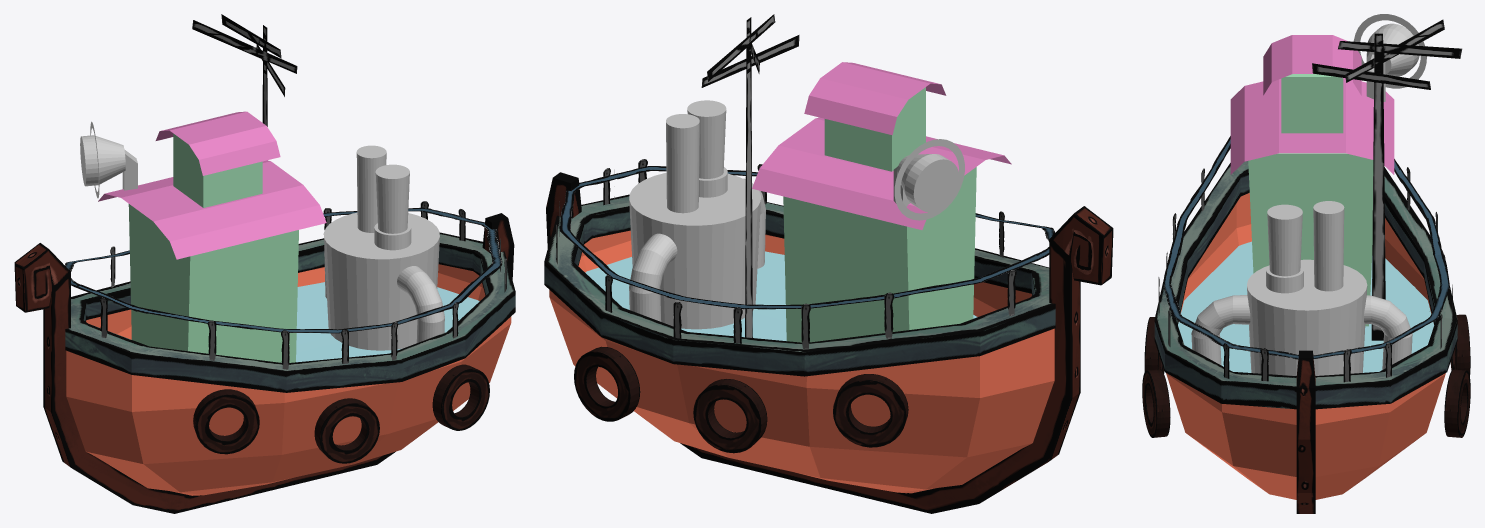
Rendered from BoatModelV1_Test3.fbx.
3 views of the same model, side by side, from view 1: azimuth 30°, elevation 25°; view 2: azimuth 150°, elevation 25°; view 3: azimuth 270°, elevation 25° (orthographic). The views are drawn at different scales.
Parts seen in each view (by area): view 1: Bootskörper, Kajüte.001, Bootskörper.001, Rohre, Bugkamm, Dächer, Dächer.001, Boden, Reling, Auspuff kurz, Cylinder.005, Cylinder (+4 smaller); view 2: Bootskörper, Kajüte.001, Bootskörper.001, Bugkamm, Rohre, Dächer, Dächer.001, Reling, Plane.001, Boden, Plane.012, Cylinder.002 (+4 smaller); view 3: Bootskörper, Bootskörper.001, Rohre, Kajüte.001, Dächer, Boden, Plane.012, Reling, Dächer.001, Bugkamm, Auspuff kurz, Auspuff kurz.001 (+5 smaller).
Boxes of the visible parts, x1=… form: Bootskörper: x1=66, y1=264, x2=511, y2=495; Kajüte.001: x1=128, y1=133, x2=298, y2=362; Bootskörper.001: x1=65, y1=232, x2=515, y2=392; Rohre: x1=323, y1=212, x2=444, y2=350; Bugkamm: x1=14, y1=213, x2=514, y2=513; Dächer: x1=98, y1=160, x2=326, y2=259; Dächer.001: x1=155, y1=111, x2=280, y2=175; Boden: x1=296, y1=282, x2=479, y2=362; Reling: x1=64, y1=207, x2=502, y2=333; Auspuff kurz: x1=374, y1=164, x2=411, y2=250; Cylinder.005: x1=314, y1=398, x2=379, y2=463; Cylinder: x1=193, y1=389, x2=259, y2=454; Bootskörper: x1=549, y1=230, x2=1054, y2=493; Kajüte.001: x1=783, y1=87, x2=976, y2=342; Bootskörper.001: x1=544, y1=194, x2=1055, y2=376; Bugkamm: x1=546, y1=172, x2=1113, y2=513; Rohre: x1=629, y1=172, x2=765, y2=329; Dächer: x1=752, y1=117, x2=1011, y2=229; Dächer.001: x1=804, y1=62, x2=946, y2=135; Reling: x1=559, y1=166, x2=1055, y2=309; Plane.001: x1=893, y1=139, x2=964, y2=220; Boden: x1=585, y1=251, x2=977, y2=340; Plane.012: x1=701, y1=14, x2=799, y2=337; Cylinder.002: x1=693, y1=379, x2=767, y2=453; Bootskörper: x1=1166, y1=193, x2=1445, y2=499; Bootskörper.001: x1=1154, y1=161, x2=1457, y2=409; Rohre: x1=1191, y1=259, x2=1412, y2=375; Kajüte.001: x1=1248, y1=74, x2=1373, y2=326; Dächer: x1=1230, y1=78, x2=1394, y2=174; Boden: x1=1178, y1=241, x2=1434, y2=372; Plane.012: x1=1312, y1=19, x2=1462, y2=340; Reling: x1=1163, y1=136, x2=1449, y2=359; Dächer.001: x1=1263, y1=35, x2=1361, y2=95; Bugkamm: x1=1296, y1=350, x2=1315, y2=513; Auspuff kurz: x1=1266, y1=204, x2=1303, y2=293; Auspuff kurz.001: x1=1313, y1=201, x2=1344, y2=291.
Size of the model in its own units: 377 by 313 by 211.
